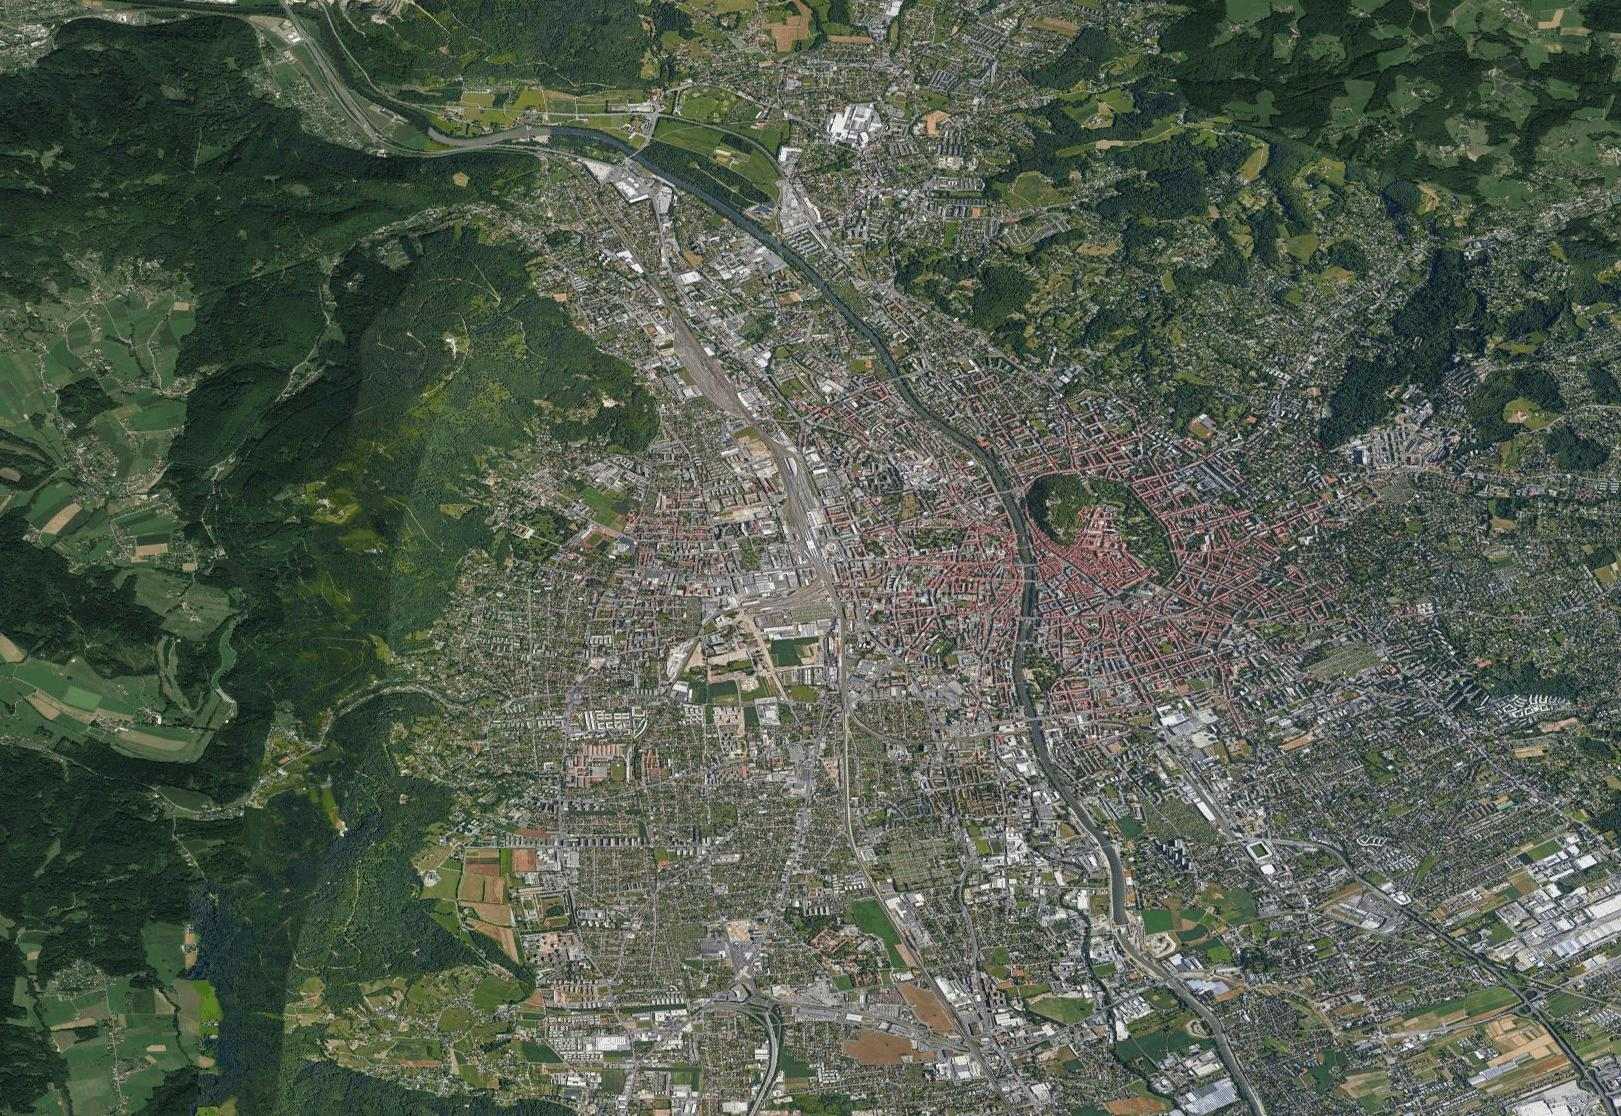train_station: (791, 512, 831, 576)
